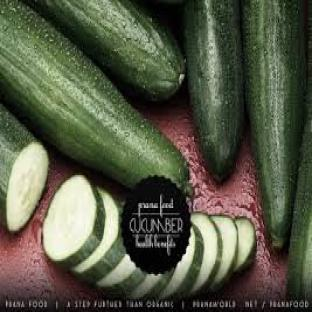Cucumber: (288, 10, 311, 302), (0, 104, 49, 232), (44, 175, 105, 269), (73, 190, 126, 283), (159, 225, 203, 298), (190, 213, 222, 295), (97, 255, 146, 297), (210, 217, 238, 290), (234, 218, 257, 272), (130, 275, 163, 298)
